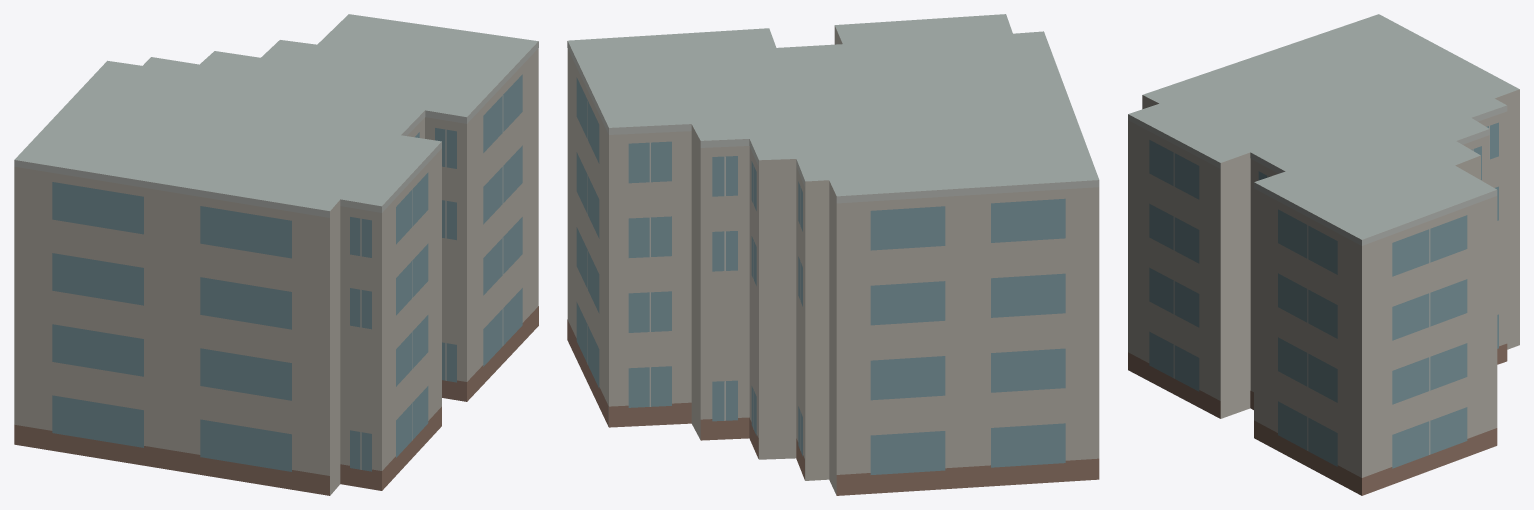
The model's file is survey-upis-32780482.glb.
3 renders of one model, left to right at view 1: azimuth 30°, elevation 25°; view 2: azimuth 150°, elevation 25°; view 3: azimuth 270°, elevation 25°, orthographic. The views are drawn at different scales.
Parts seen in each view (by area): view 1: survey-upis-32780482.tmp; view 2: survey-upis-32780482.tmp; view 3: survey-upis-32780482.tmp.
Boxes of the visible parts, x1,y1,x2,y2 form: survey-upis-32780482.tmp: (14,14,538,495); survey-upis-32780482.tmp: (567,14,1099,495); survey-upis-32780482.tmp: (1128,14,1519,495).
Bounding box in the file's own units: 19.51 × 10.3 × 14.3.
